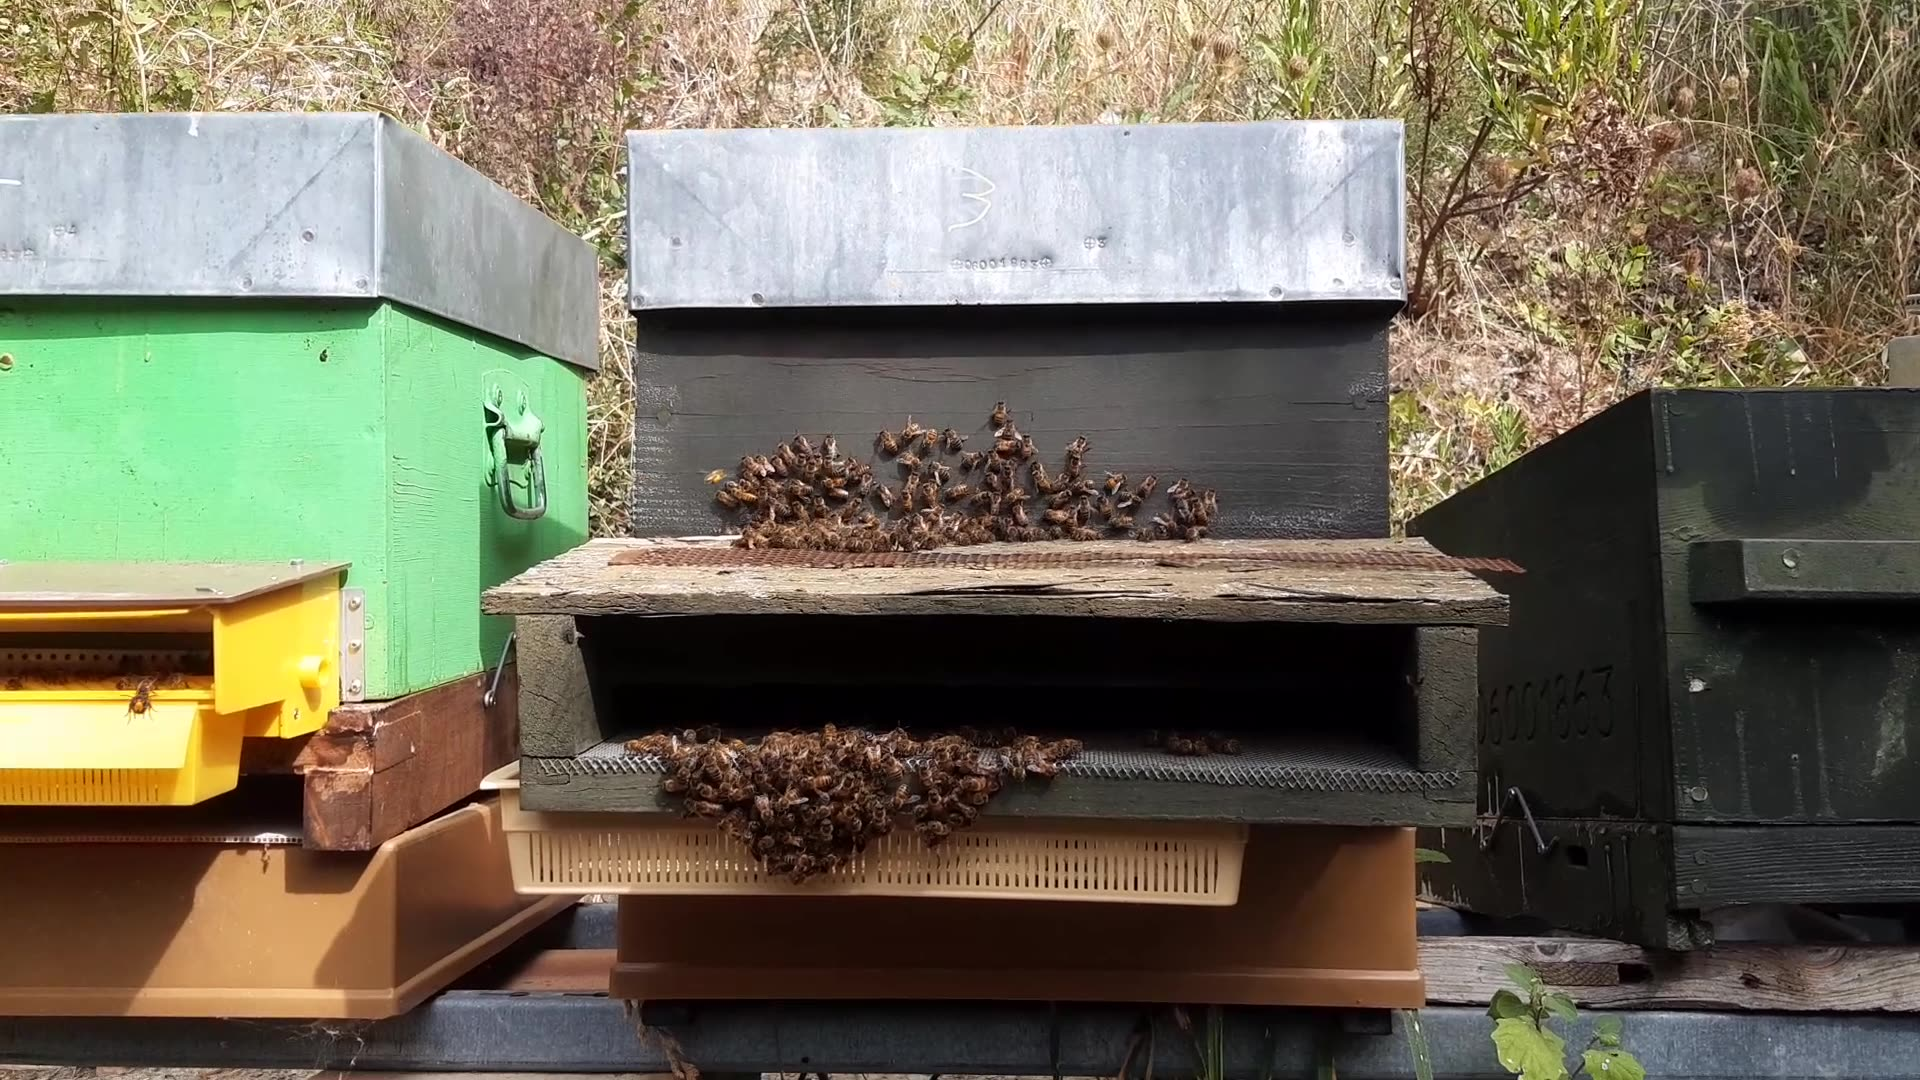bee: (742, 794, 829, 889), (880, 793, 967, 877), (800, 808, 876, 895), (637, 742, 732, 800), (810, 723, 894, 787), (721, 459, 808, 506), (1025, 468, 1089, 527), (1145, 475, 1207, 534), (943, 498, 1011, 549), (829, 454, 899, 496), (963, 417, 1021, 467), (851, 506, 916, 550), (872, 440, 934, 481), (1043, 504, 1102, 546)
